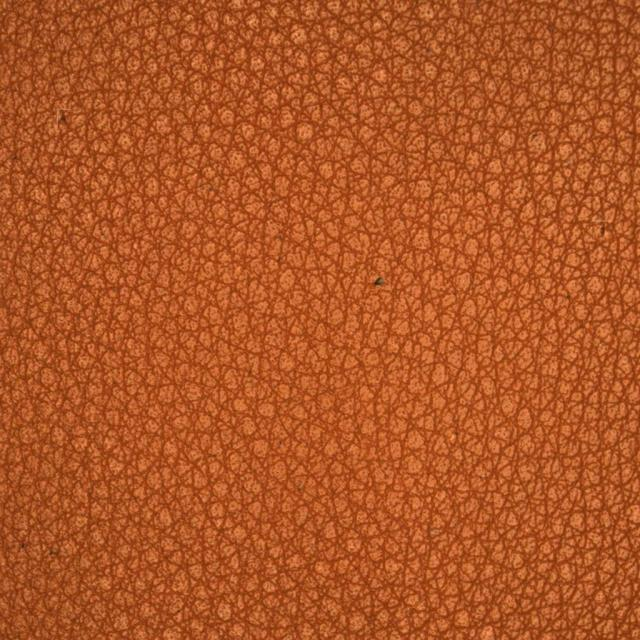Hole: (312, 166, 448, 392)
